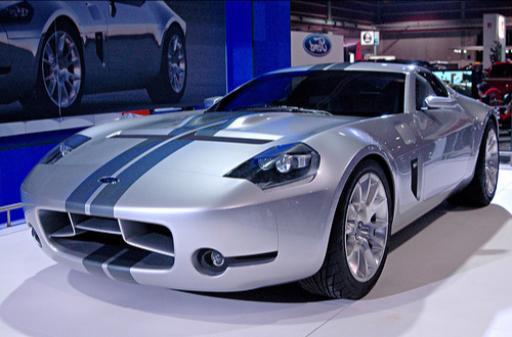Cheetah: (7, 54, 503, 318)
